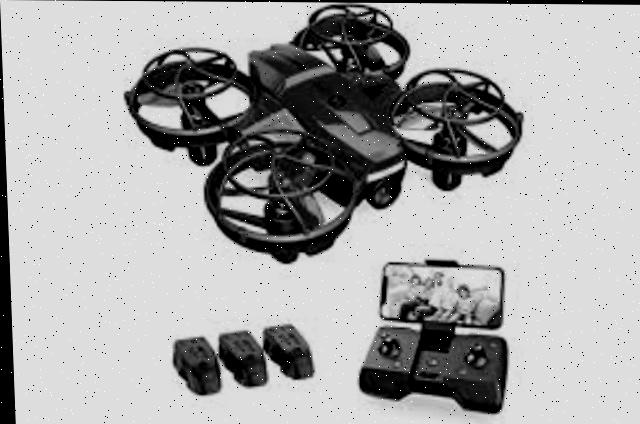drone: (114, 1, 536, 265)
